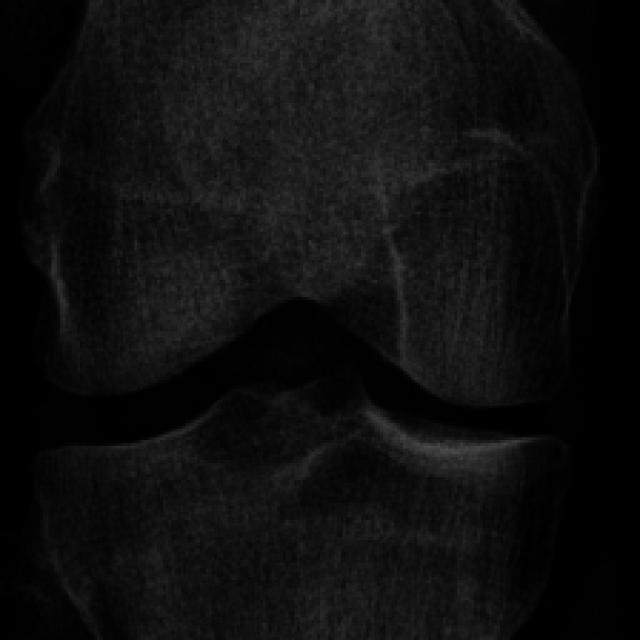femur: (20, 1, 594, 403)
tibia: (37, 377, 566, 637)
